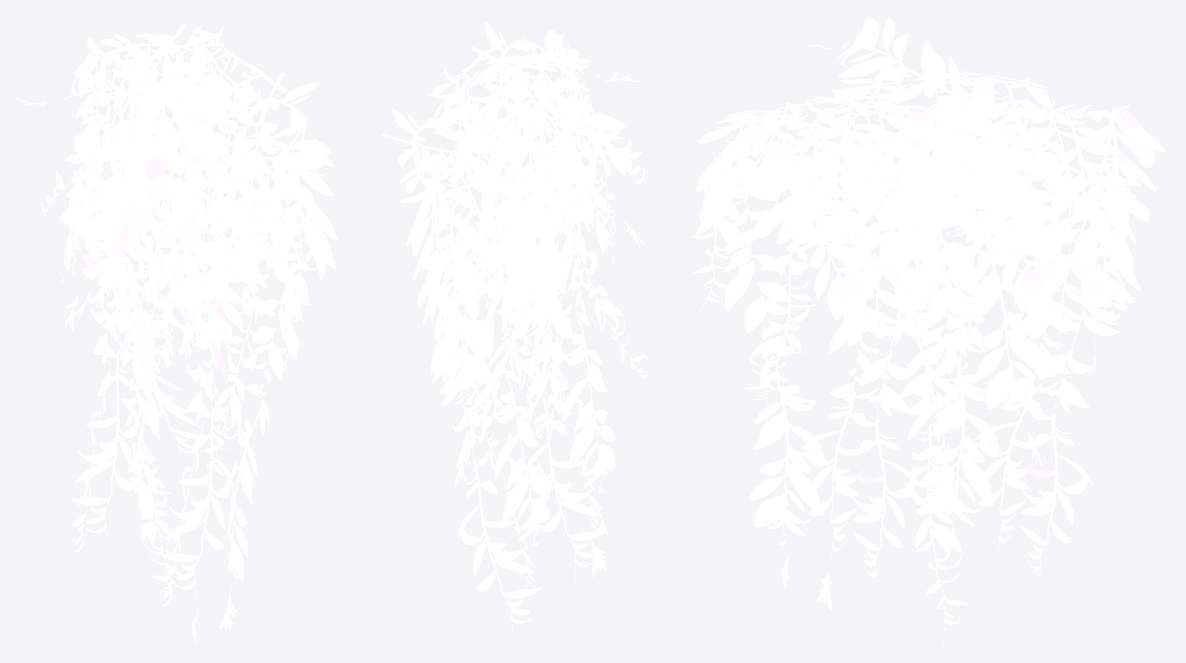
The picture shows the model from 3 angles, left to right: view 1: azimuth 30°, elevation 25°; view 2: azimuth 150°, elevation 25°; view 3: azimuth 270°, elevation 25°; orthographic projection. The views are drawn at different scales.
Parts seen in each view (by area): view 1: SM_FH_Climbing_A_03_LOD0; view 2: SM_FH_Climbing_A_03_LOD0; view 3: SM_FH_Climbing_A_03_LOD0.
Boxes of the visible parts, left/top/right/bottom form: SM_FH_Climbing_A_03_LOD0: left=16, top=23, right=337, bottom=645; SM_FH_Climbing_A_03_LOD0: left=381, top=22, right=653, bottom=641; SM_FH_Climbing_A_03_LOD0: left=692, top=18, right=1165, bottom=646.
Size of the model in its own units: 0.7505 by 2.25 by 1.59.
Materials: 1 (1 with a texture image).
